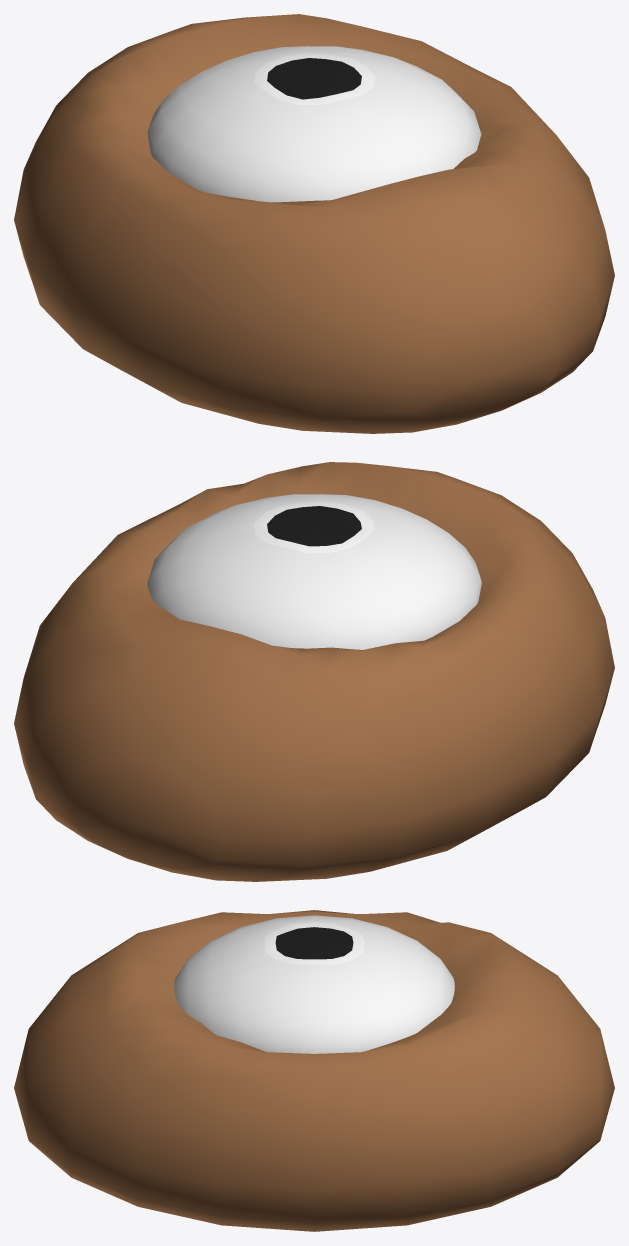
File: Surpreyes’d.fbx
3 renders of one model, top to bottom at view 1: azimuth 30°, elevation 25°; view 2: azimuth 150°, elevation 25°; view 3: azimuth 270°, elevation 25°, orthographic. The views are drawn at different scales.
Parts seen in each view (by area): view 1: Surpreyes’d - Daniel Lochner; view 2: Surpreyes’d - Daniel Lochner; view 3: Surpreyes’d - Daniel Lochner.
Part boxes in pixels (left/top/right/bottom): Surpreyes’d - Daniel Lochner: left=14, top=14, right=614, bottom=433; Surpreyes’d - Daniel Lochner: left=14, top=462, right=614, bottom=881; Surpreyes’d - Daniel Lochner: left=14, top=910, right=614, bottom=1231.
Bounding box in the file's own units: 16.35 × 9.18 × 20.5.
